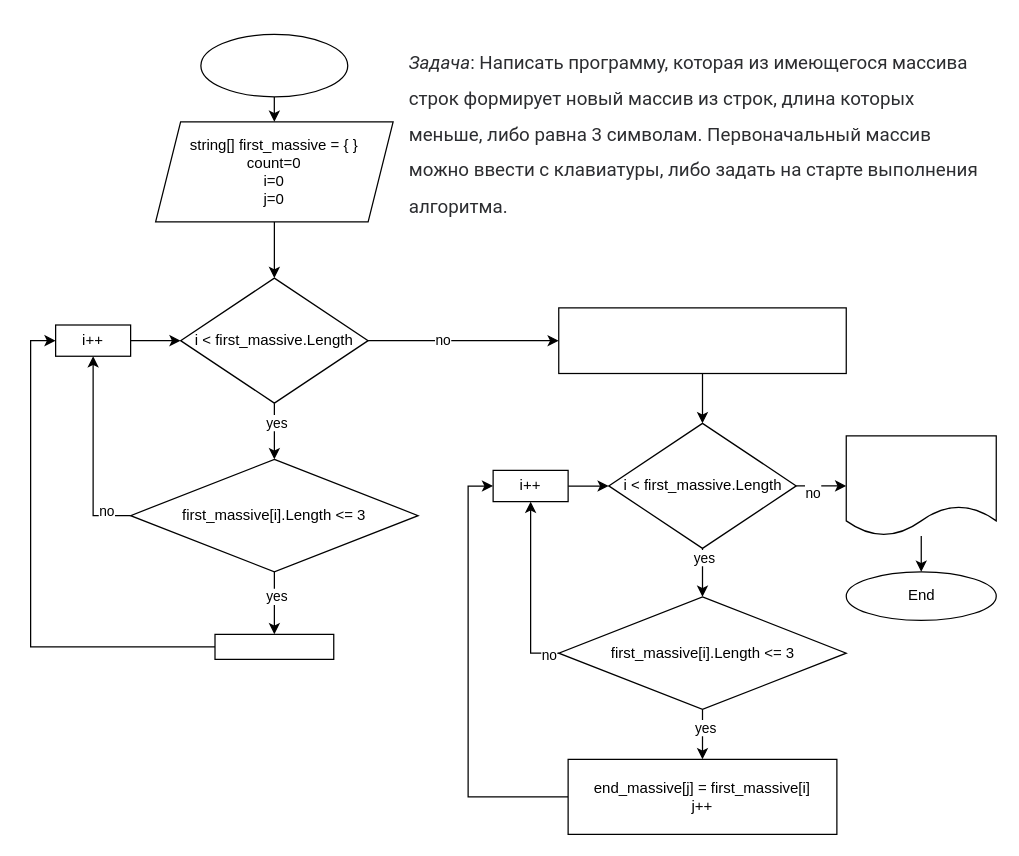
The diagram is 1019 pixels wide and 856 high, and some of its shapes have lost their labels. Here are the shapes that lost their labels. From the top down, the centre of each, then its label:
At (274,65): "Start".
At (702,340): "string[] end_massive = new string[count] i=0".
At (920,485): "print end_massive".
At (274,646): "count++".
